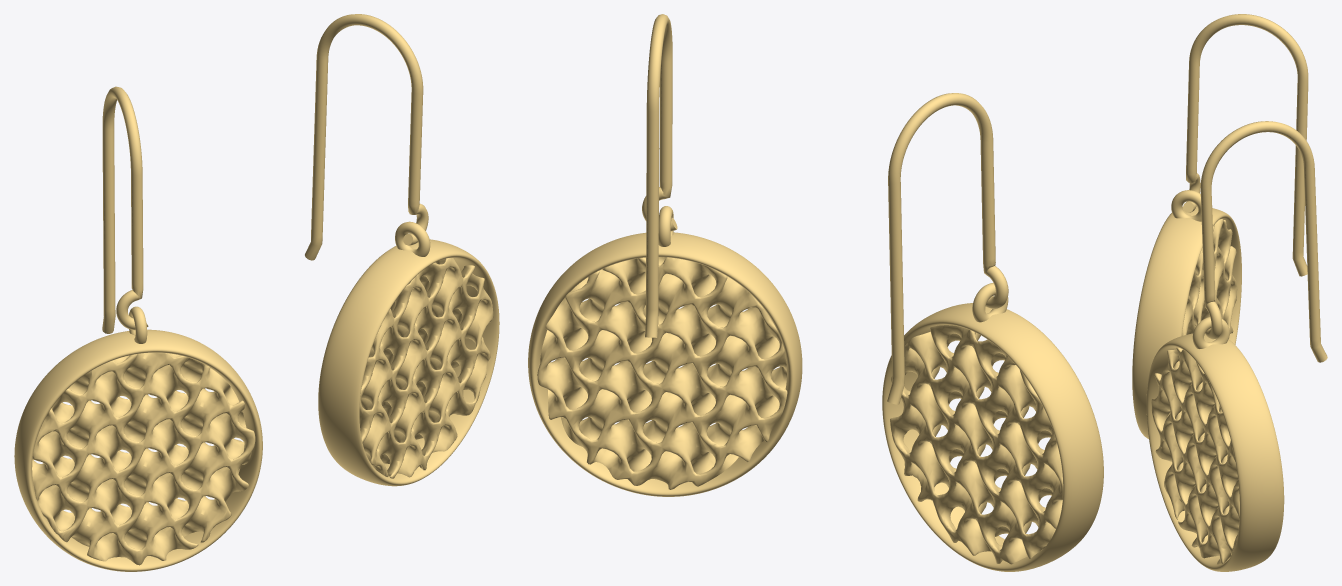
The picture shows the model from 3 angles, left to right: view 1: azimuth 30°, elevation 25°; view 2: azimuth 150°, elevation 25°; view 3: azimuth 270°, elevation 25°; orthographic projection. The views are drawn at different scales.
Visible parts, largest first — view 1: Earring_L_lat_GLB, Earring_R_lat_GLB, Earring_R_bezel_GLB, Earring_L_bezel_GLB, Earring_R_hook_GLB, Earring_L_hook_GLB, Earring_R_loop_GLB; view 2: Earring_R_lat_GLB, Earring_L_lat_GLB, Earring_L_bezel_GLB, Earring_R_bezel_GLB, Earring_L_hook_GLB, Earring_R_hook_GLB, Earring_L_loop_GLB; view 3: Earring_R_bezel_GLB, Earring_R_lat_GLB, Earring_L_bezel_GLB, Earring_R_hook_GLB, Earring_L_hook_GLB, Earring_L_lat_GLB, Earring_R_loop_GLB, Earring_L_loop_GLB.
Part boxes in pixels (x1,y1,x2,y2): Earring_L_lat_GLB: (32, 352, 255, 565); Earring_R_lat_GLB: (359, 258, 493, 478); Earring_R_bezel_GLB: (318, 239, 499, 486); Earring_L_bezel_GLB: (14, 329, 262, 571); Earring_R_hook_GLB: (305, 14, 428, 260); Earring_L_hook_GLB: (102, 86, 148, 333); Earring_R_loop_GLB: (395, 221, 430, 256); Earring_R_lat_GLB: (537, 257, 787, 489); Earring_L_lat_GLB: (890, 325, 1063, 564); Earring_L_bezel_GLB: (882, 303, 1103, 571); Earring_R_bezel_GLB: (528, 232, 802, 496); Earring_L_hook_GLB: (887, 93, 1008, 404); Earring_R_hook_GLB: (642, 14, 677, 337); Earring_L_loop_GLB: (972, 283, 1008, 322); Earring_R_bezel_GLB: (1146, 333, 1284, 571); Earring_R_lat_GLB: (1151, 347, 1239, 564); Earring_L_bezel_GLB: (1132, 206, 1241, 438); Earring_R_hook_GLB: (1200, 121, 1327, 362); Earring_L_hook_GLB: (1183, 14, 1308, 276); Earring_L_lat_GLB: (1182, 219, 1237, 337); Earring_R_loop_GLB: (1192, 317, 1229, 348); Earring_L_loop_GLB: (1171, 190, 1201, 221).
Size of the model in its own units: 0.039 by 0.0343 by 0.0138.
